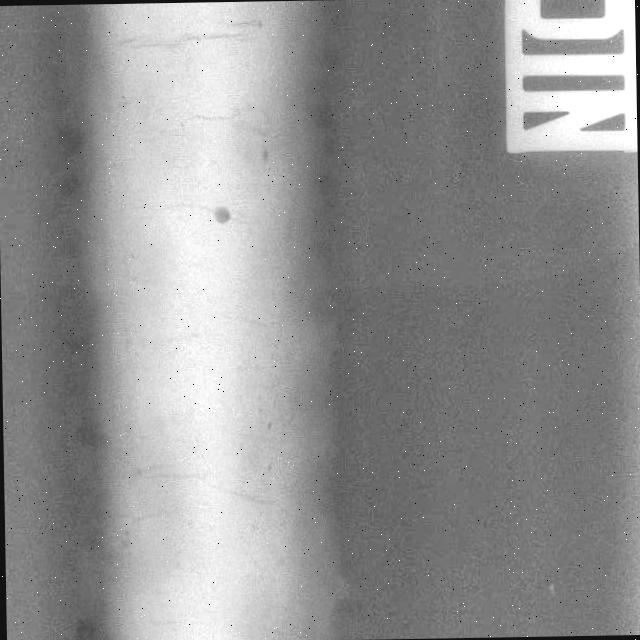Crack: (110, 454, 273, 538), (99, 6, 280, 75), (128, 90, 265, 142), (104, 190, 218, 230)
Pore: (207, 200, 235, 228)
